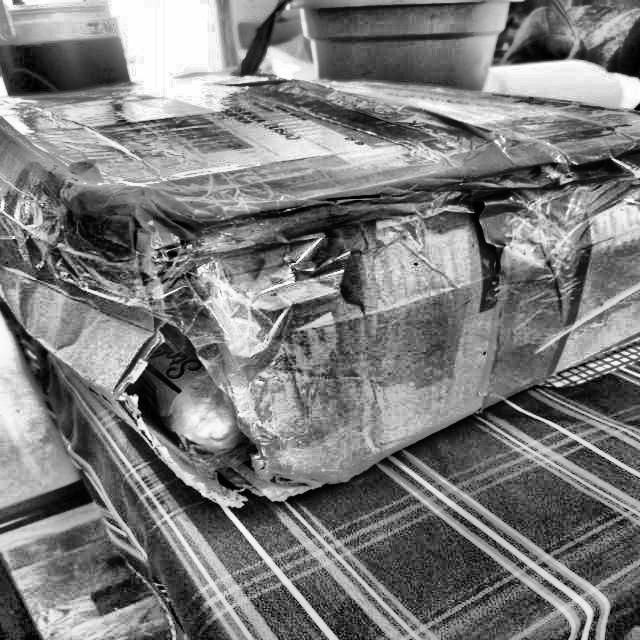box: (0, 54, 640, 516)
hole: (129, 248, 299, 514)
